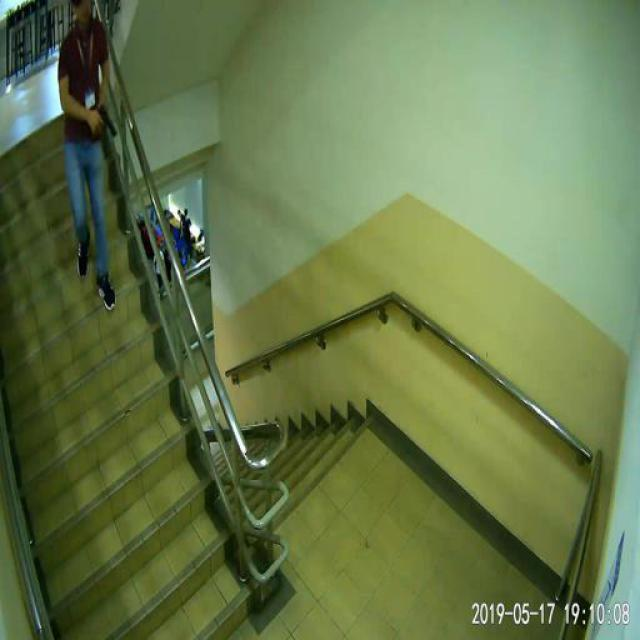weapon: (95, 106, 117, 138)
